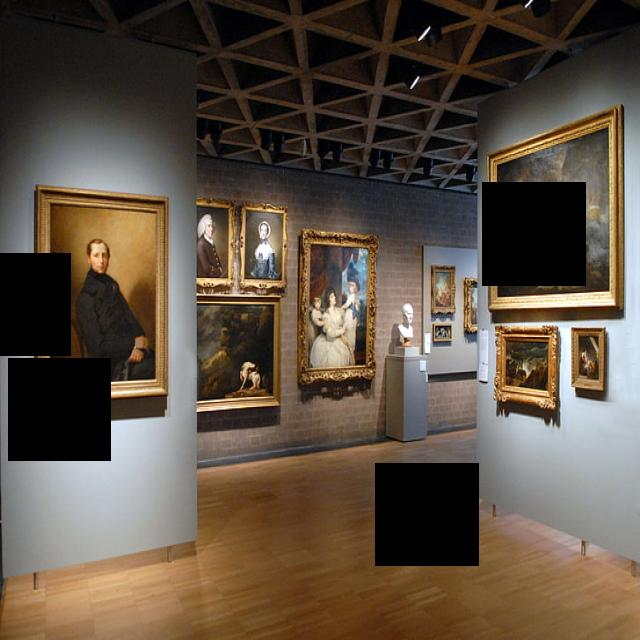Tablo: (495, 122, 611, 299), (48, 201, 157, 387), (305, 242, 370, 372), (195, 302, 275, 404), (244, 208, 284, 281), (502, 339, 549, 396), (196, 203, 230, 281), (576, 334, 600, 381)
